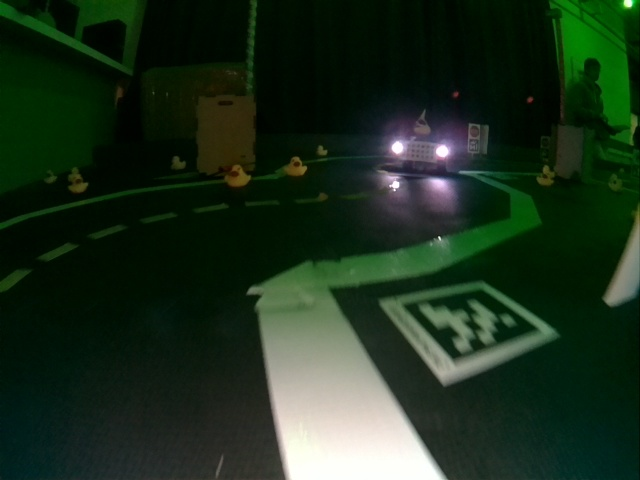Duckie: (225, 164, 251, 187), (286, 159, 307, 177), (69, 176, 88, 192), (415, 116, 430, 134), (171, 157, 186, 170), (43, 169, 56, 183), (610, 178, 622, 190), (537, 174, 551, 184), (318, 146, 326, 154)
Duckiebot: (391, 134, 449, 173)
QR code: (385, 282, 559, 386), (469, 141, 480, 152)
Stop sign: (470, 125, 480, 138)
